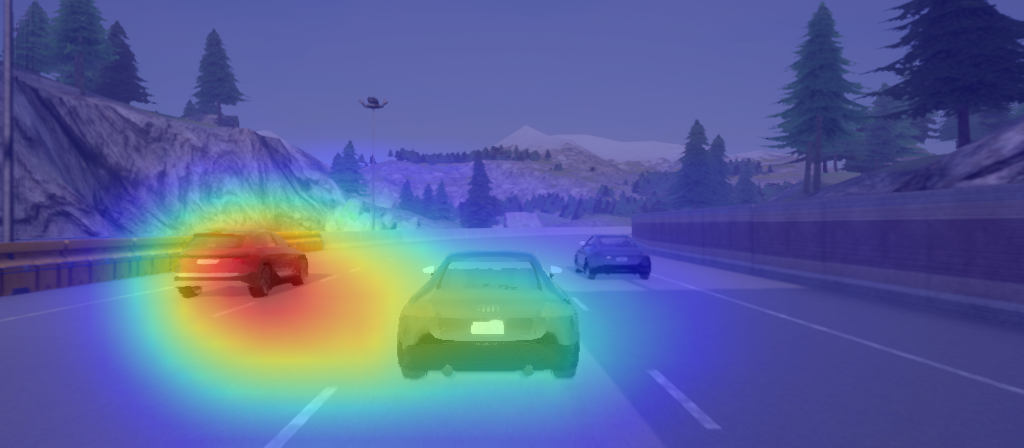Barrier: (669, 213, 1012, 252), (13, 240, 154, 276)
Car: (394, 247, 589, 384), (169, 226, 312, 302), (573, 232, 658, 282)
Lane Marker: (644, 362, 725, 437), (259, 381, 341, 448), (211, 299, 258, 318), (571, 293, 590, 316)
Light Pole: (357, 93, 393, 231), (4, 2, 15, 245)
